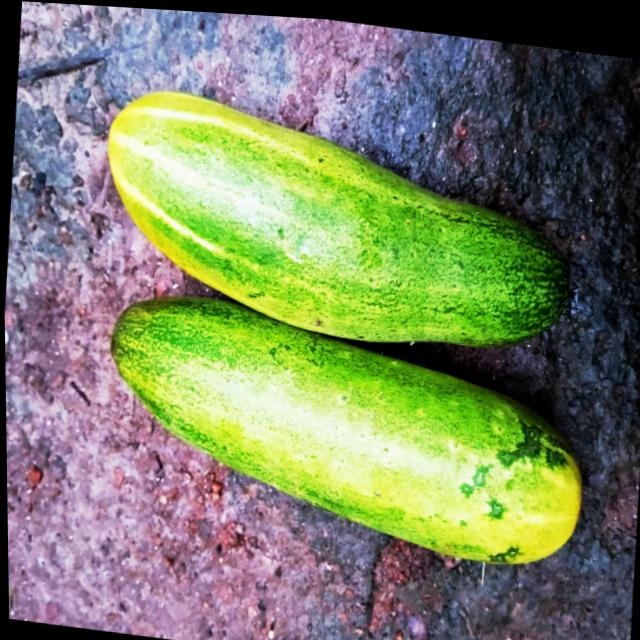Fresh-Cucumber: (95, 280, 594, 570), (96, 76, 581, 364)
